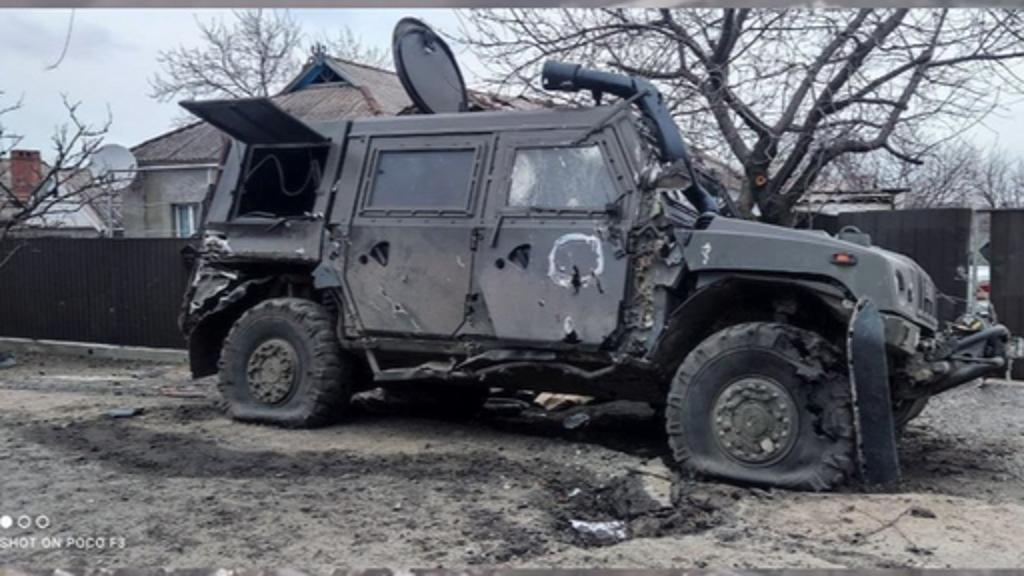CAR: (166, 80, 954, 514)
